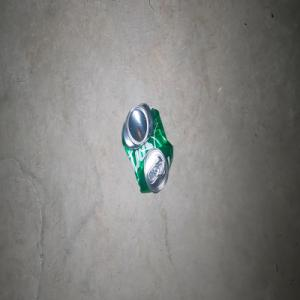SodaCan: (121, 102, 173, 193)
